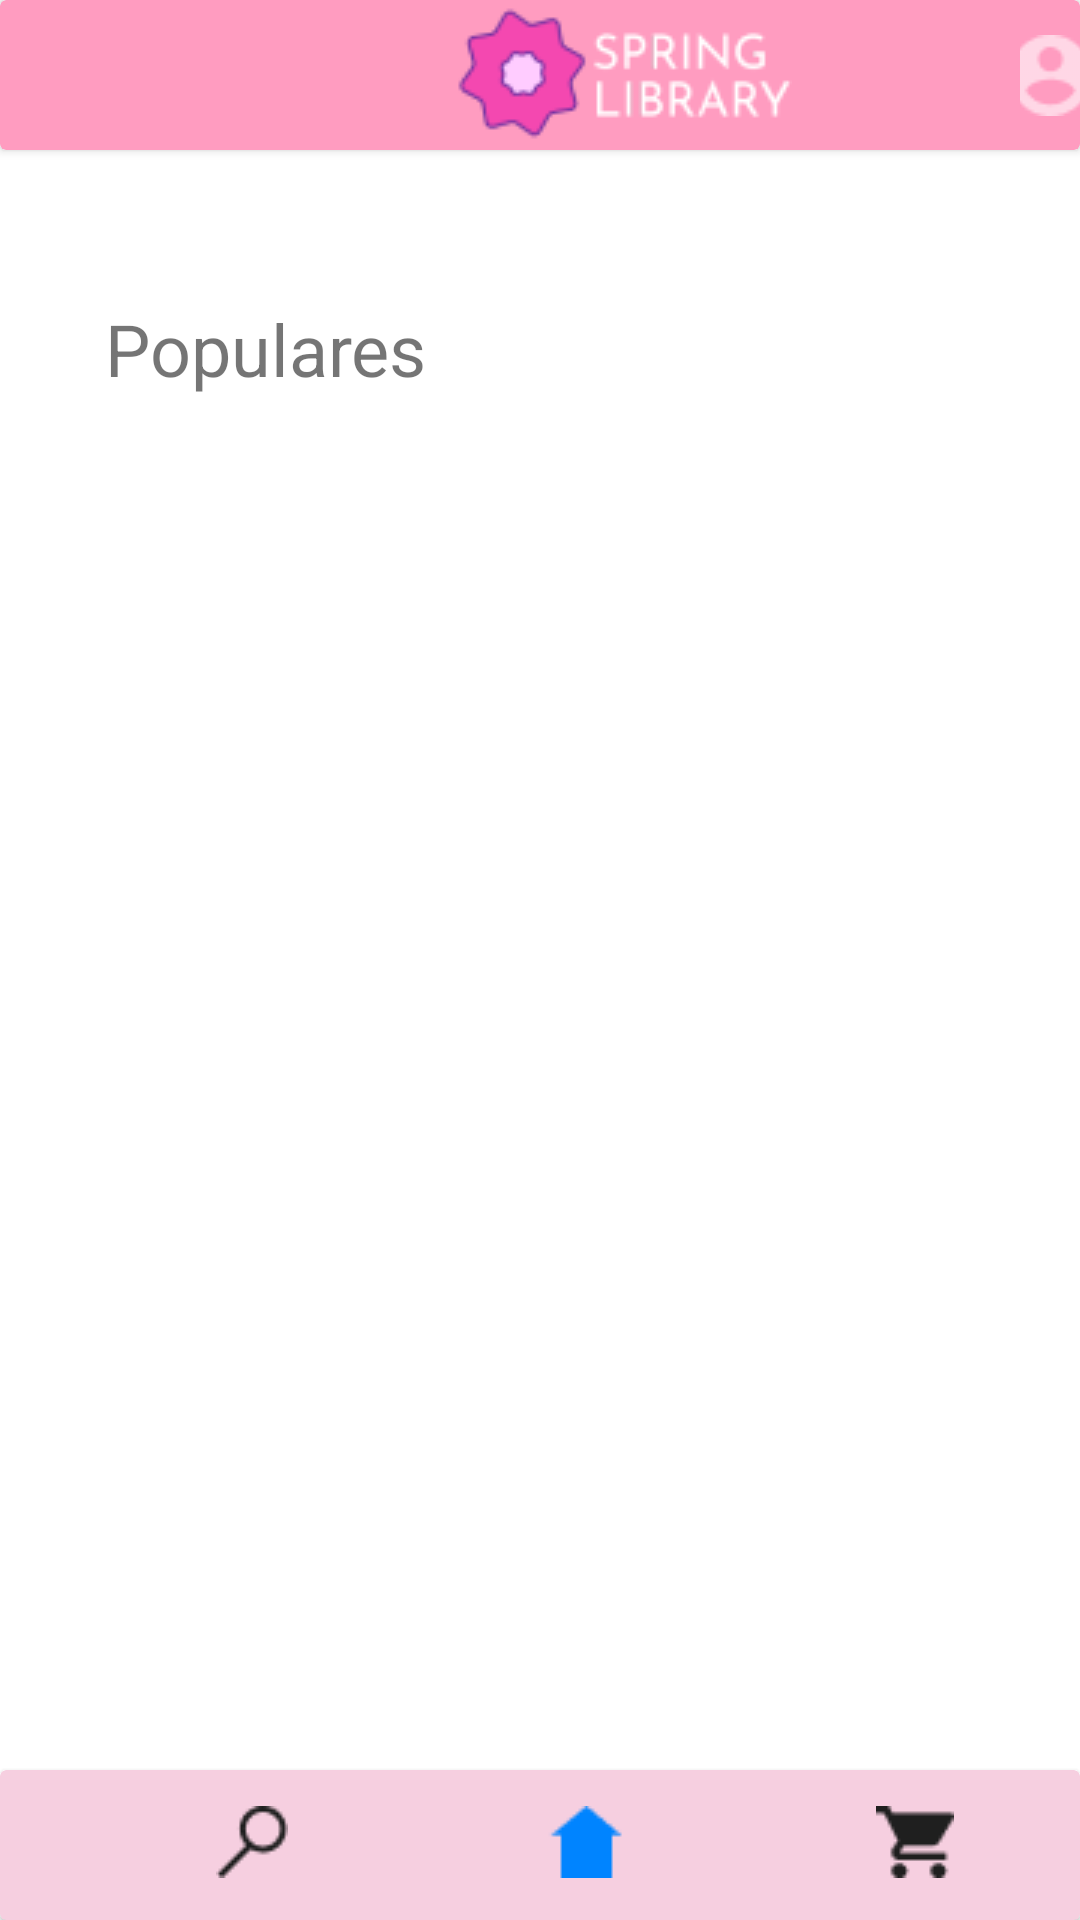

Screen size 1080*1920. Icon name, then its center in pixels as [x,y]:
Carrinho: [915,1842]
Home: [586,1842]
Login: [1050,75]
Pesquisar: [252,1842]
